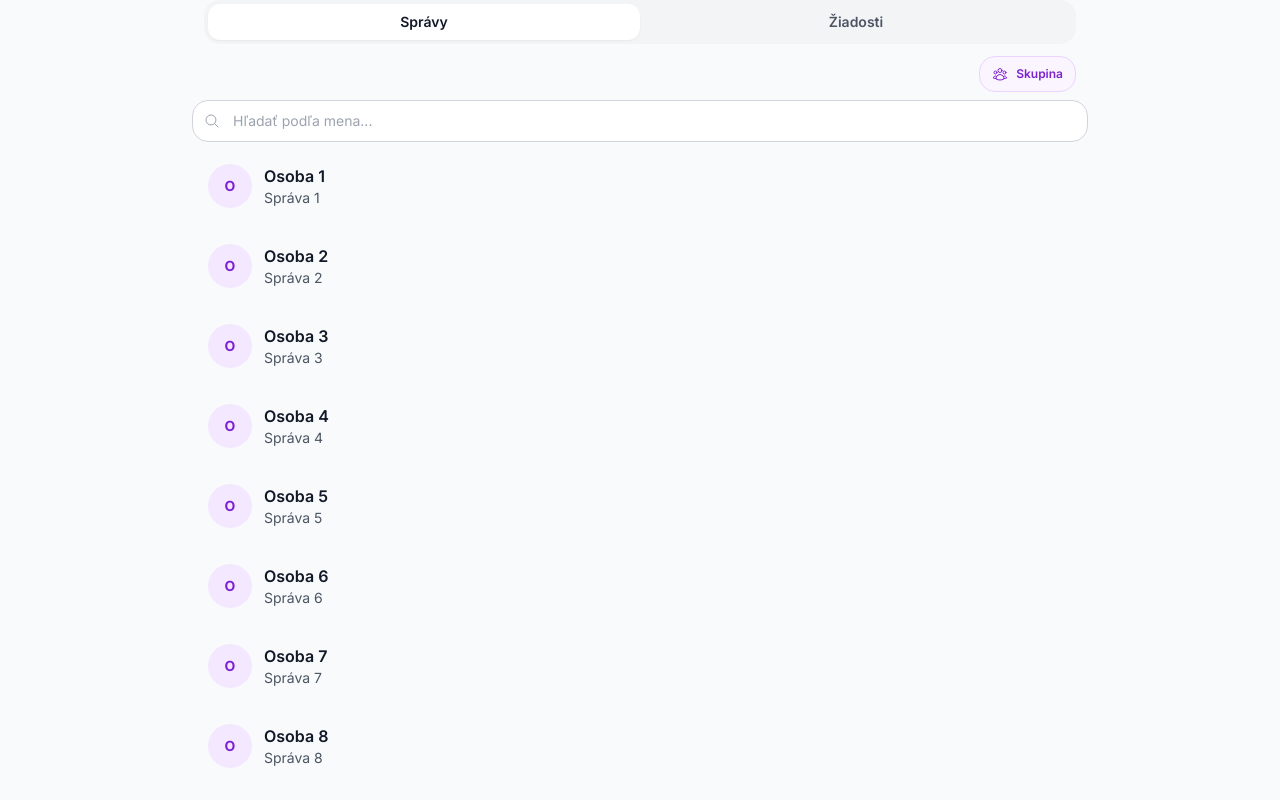
it: ConversationsList infinite scroll › state that belongs to one tab › does not recompute the badge on the requests tab after the search was cleared there
Expected: the text "Osoba 1" is shown, [264,164,325,188]
Type "Osoba 3" into the field labelled "Hľadať podľa mena...". click: point(640, 121)
box: [192,100,1088,142]
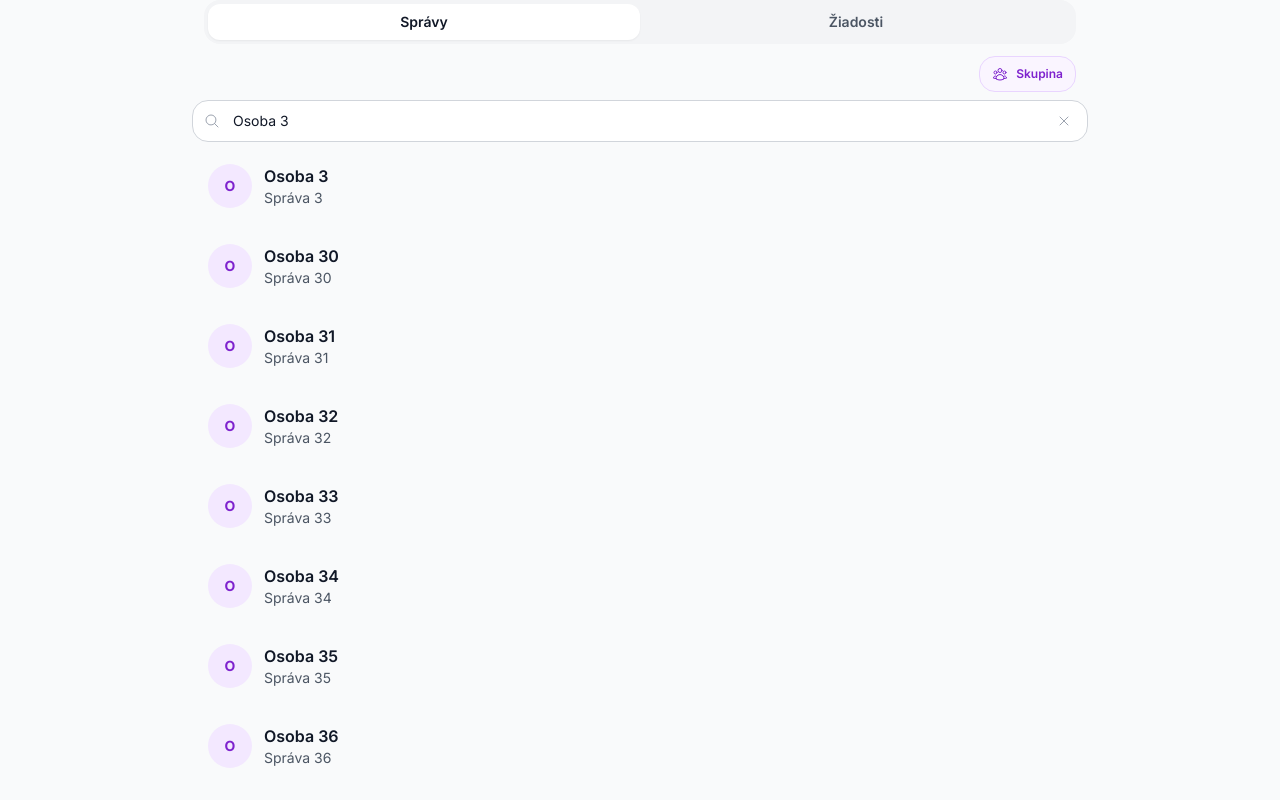
Expected: the button "Osoba 1" is gone
Click the button "Žiadosti". click: point(856, 22)
box: [640,4,1072,40]
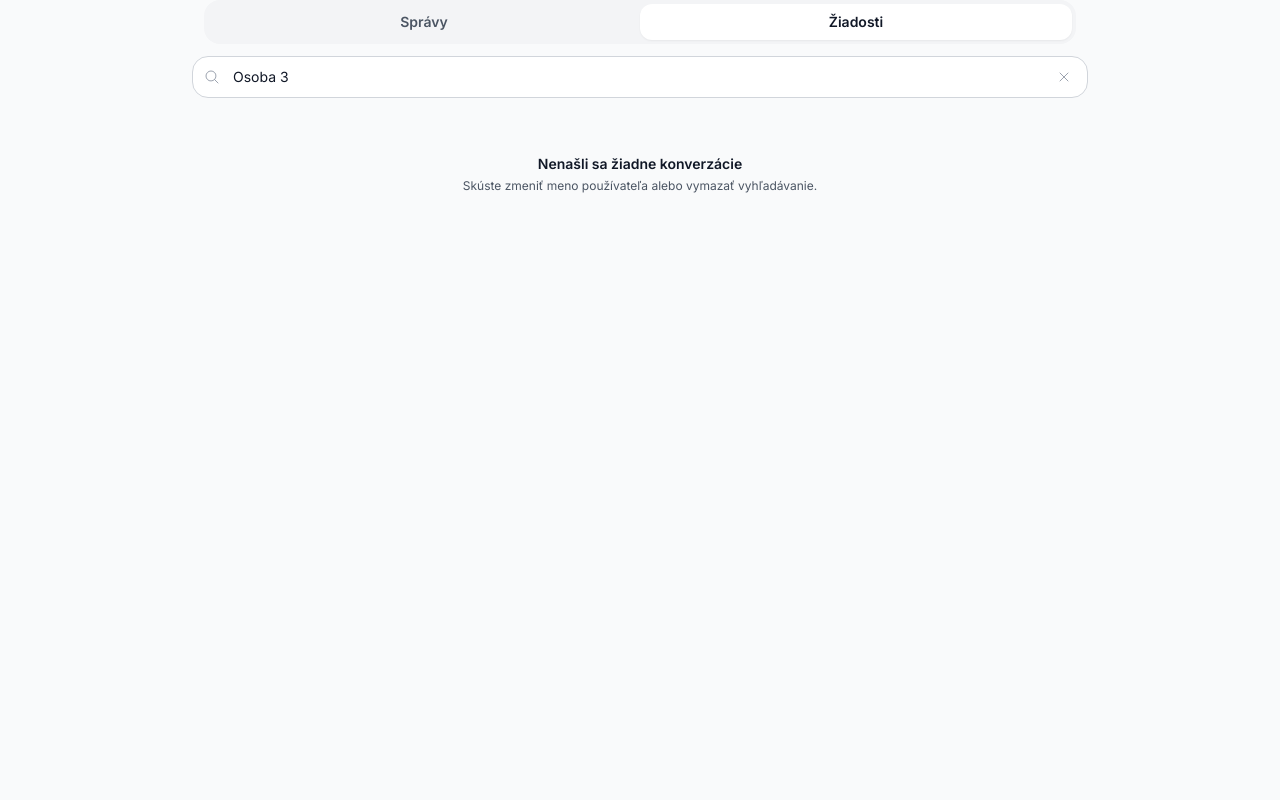
Clear the field named "Hľadať podľa mena...". click: point(640, 77)
box: [192,56,1088,98]
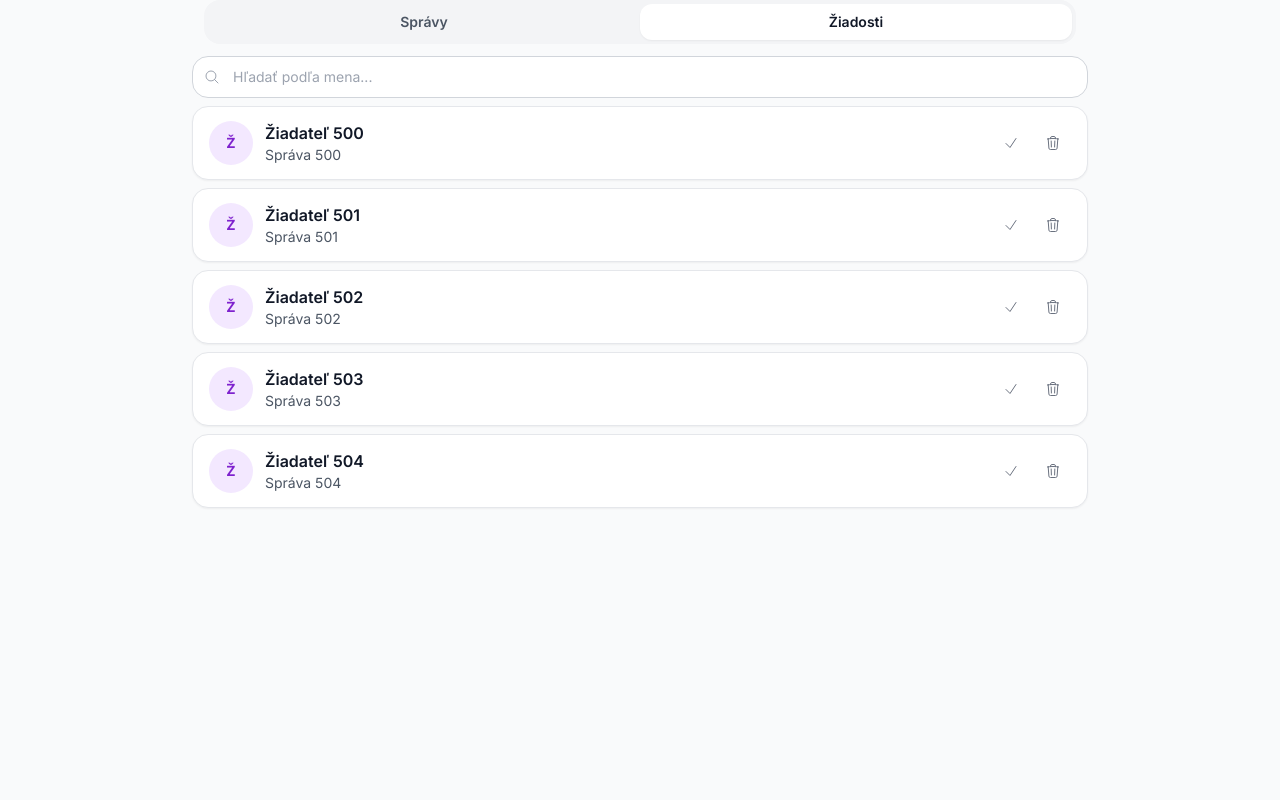
Expected: the text "Žiadateľ 500" is shown 5 times, [265,121,364,145]; [265,203,360,227]; [265,285,363,309]; [265,367,364,391]; [265,449,364,473]
